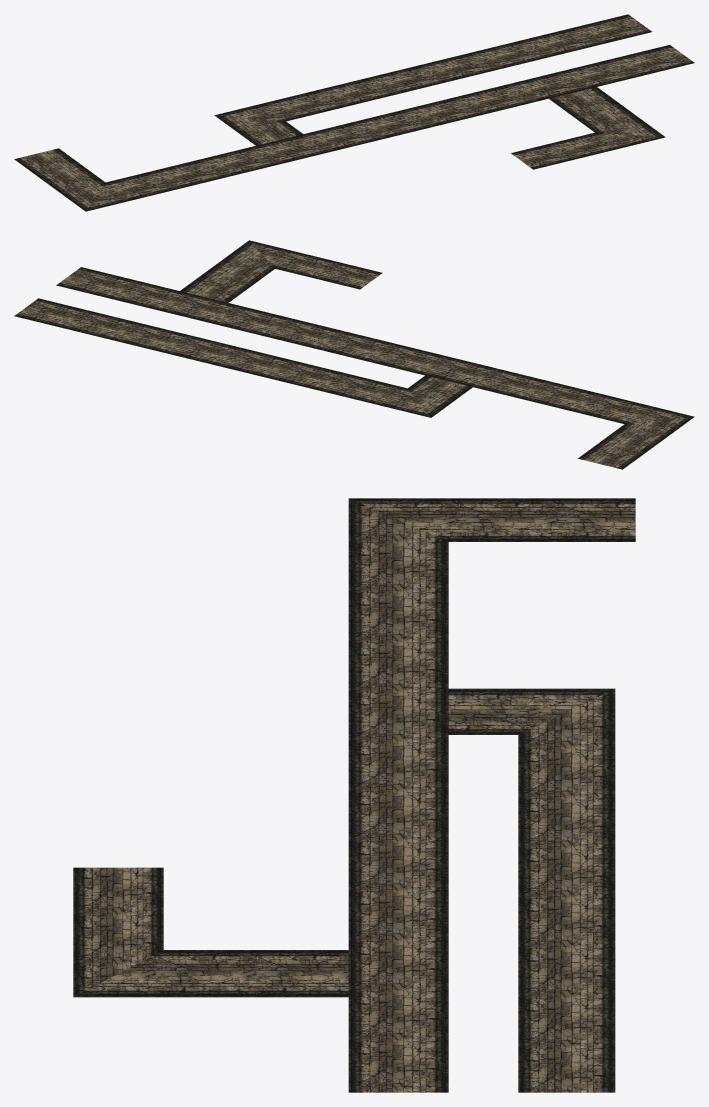
The model's file is Old_PhoenixCastle_Tunnel_destruct_wall02.FBX.
The picture shows the model from 3 angles, top to bottom: view 1: azimuth 30°, elevation 25°; view 2: azimuth 150°, elevation 25°; view 3: azimuth 270°, elevation 25°; orthographic projection. The views are drawn at different scales.
Visible parts, largest first — view 1: Object007; view 2: Object007; view 3: Object007.
Part boxes in pixels (x1,y1,x2,y2): Object007: (14, 14, 694, 211); Object007: (14, 240, 694, 469); Object007: (73, 498, 635, 1092).
Bounding box in the file's own units: 10149 × 2.27e-13 × 4057.
Materials: 1 (1 with a texture image).
